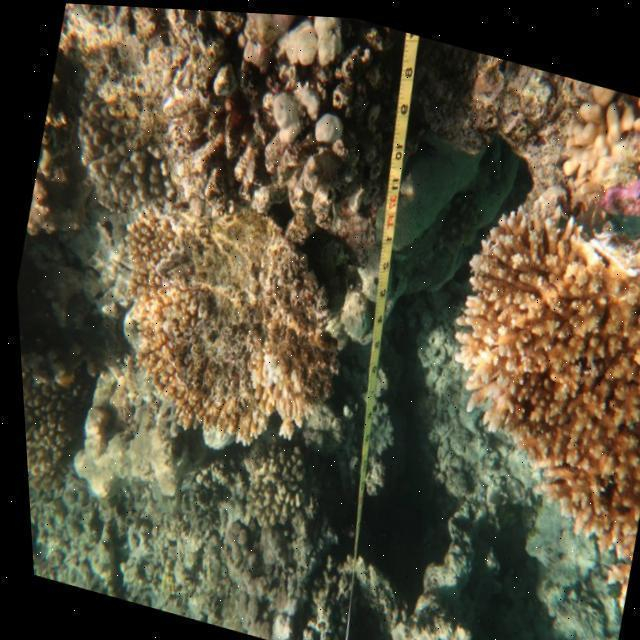Healthy Coral: (440, 175, 640, 558), (545, 72, 640, 229)
